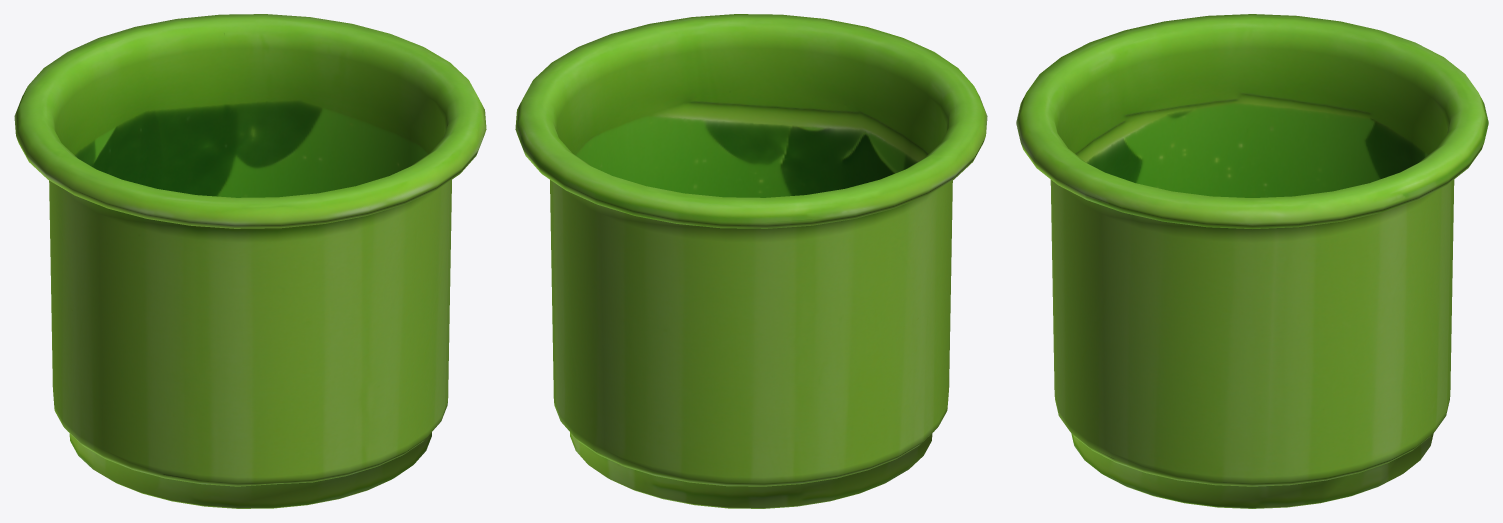
The model's file is 065-i_cups.dae.
3 views of the same model, side by side, from view 1: azimuth 30°, elevation 25°; view 2: azimuth 150°, elevation 25°; view 3: azimuth 270°, elevation 25° (orthographic).
Parts seen in each view (by area): view 1: 065-i_cups; view 2: 065-i_cups; view 3: 065-i_cups.
Part boxes in pixels (x1,y1,x2,y2): 065-i_cups: (14, 14, 486, 508); 065-i_cups: (515, 14, 987, 508); 065-i_cups: (1016, 14, 1488, 508).
Bounding box in the file's own units: 0.0986 × 0.0986 × 0.0748.
Materials: 1 (1 with a texture image).
